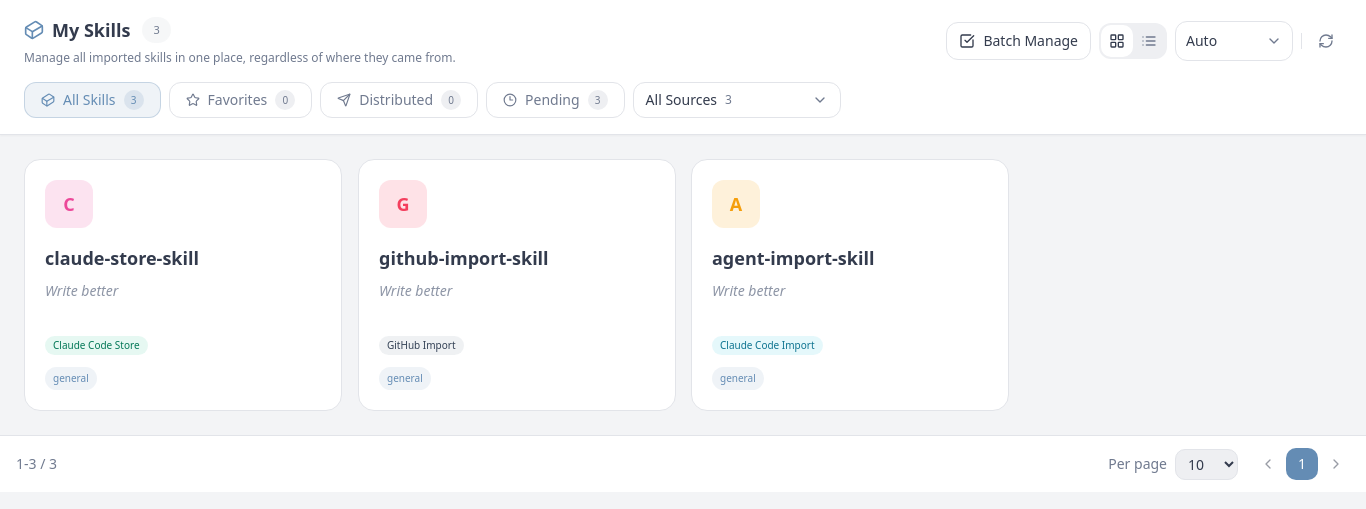
Test: skill i18n smoke › filters My Skills by source badge from the header dropdown
Expected: the heading "claude-store-skill" is shown, [45,246,199,270]
Expected: the heading "github-import-skill" is shown, [378,246,548,270]
Step 1. Click the button with aria-label "Skill source" → (737, 100), box [633,82,841,118]
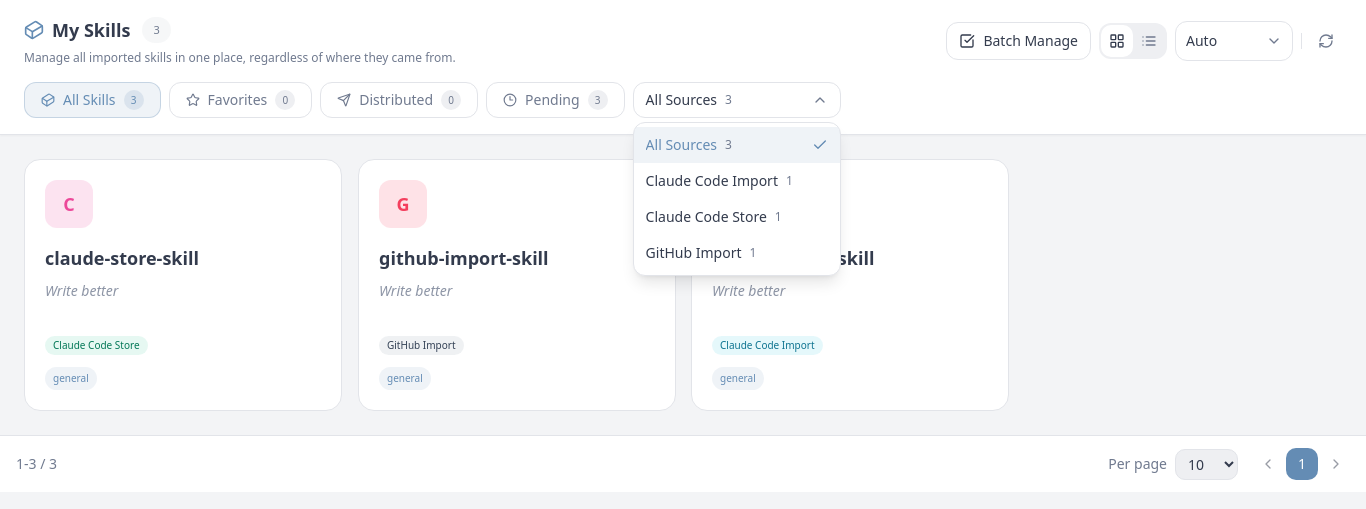
Step 2. Click the button "GitHub Import 1" → (737, 253), box [634,235,840,271]
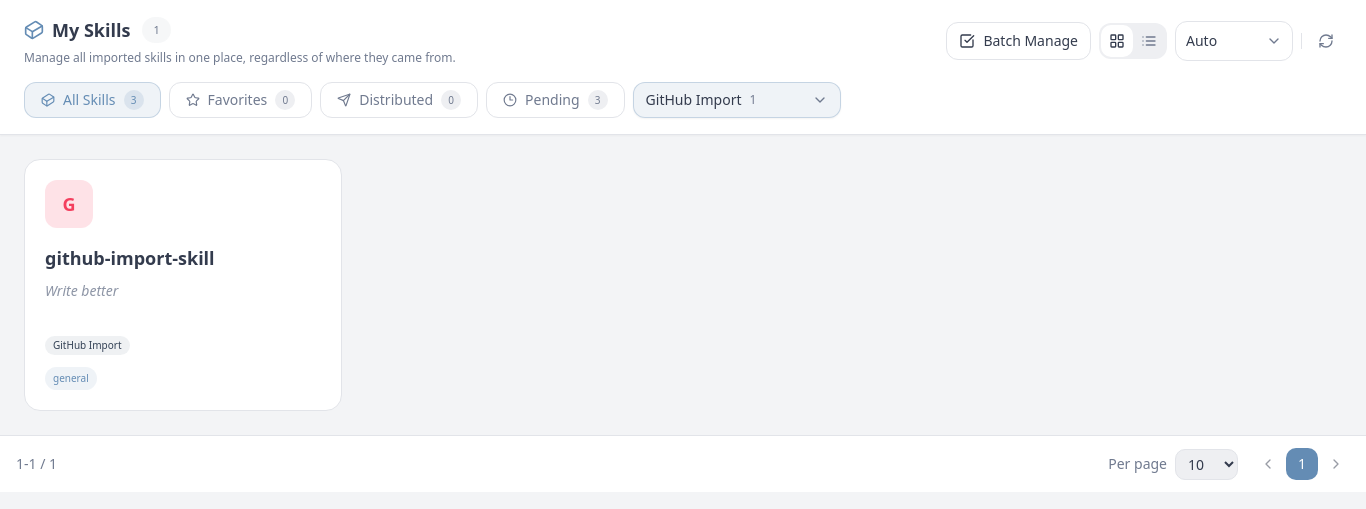
Expected: the heading "github-import-skill" is shown, [45,246,215,270]
Expected: the heading "claude-store-skill" is gone
Expected: the heading "agent-import-skill" is gone
Step 3. Click the button with aria-label "Skill source" → (737, 100), box [633,82,841,118]
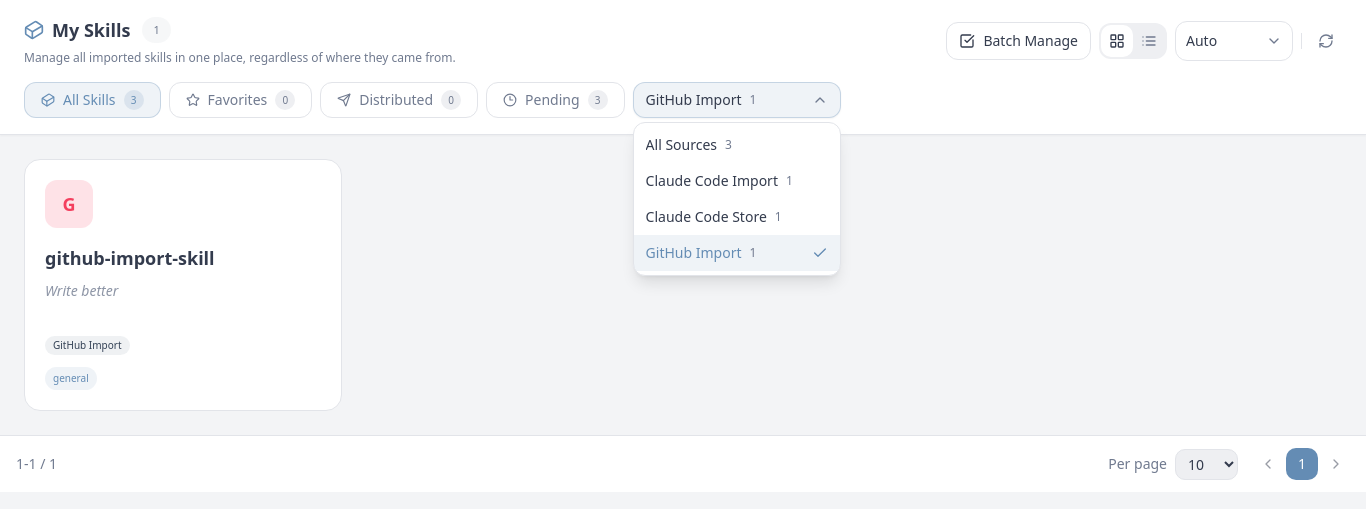
Step 4. Click the button "Claude Code Store 1" → (737, 217), box [634,199,840,235]
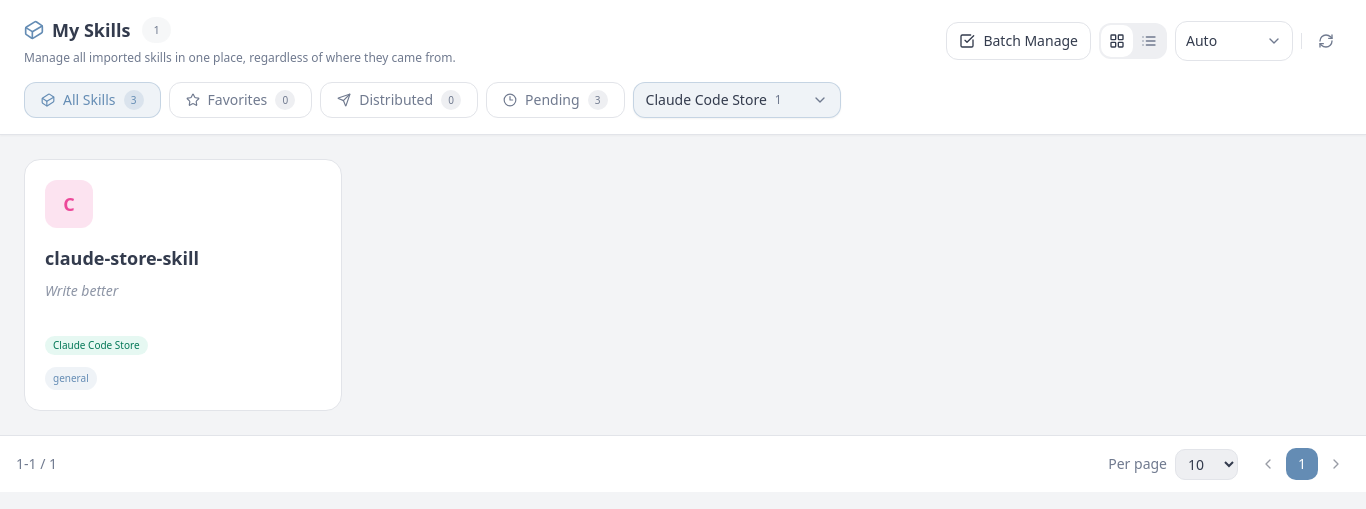
Expected: the heading "agent-import-skill" is not shown
Expected: the heading "claude-store-skill" is shown, [45,246,199,270]
Expected: the heading "github-import-skill" is gone
